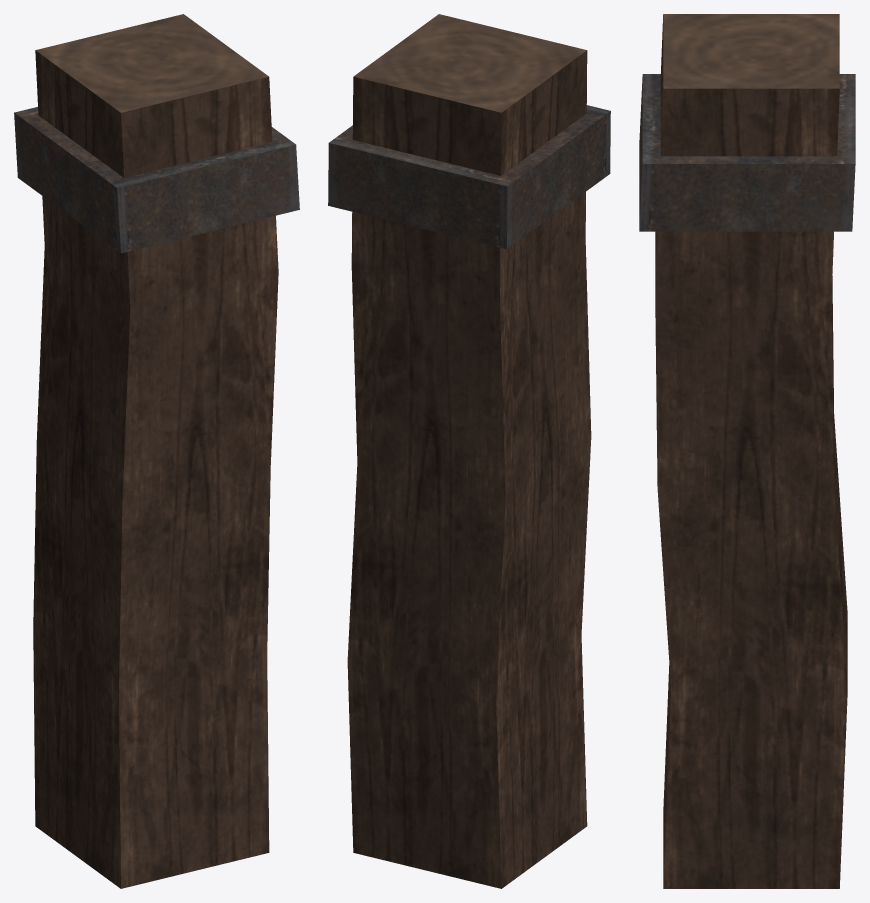
Rendered from Wood_Beam2.fbx.
The picture shows the model from 3 angles, left to right: view 1: azimuth 30°, elevation 25°; view 2: azimuth 150°, elevation 25°; view 3: azimuth 270°, elevation 25°; orthographic projection. The views are drawn at different scales.
Visible parts, largest first — view 1: Cube.012; view 2: Cube.012; view 3: Cube.012.
Part boxes in pixels (left/top/right/bottom): Cube.012: left=14, top=14, right=299, bottom=888; Cube.012: left=328, top=14, right=610, bottom=888; Cube.012: left=639, top=14, right=855, bottom=888.
Bounding box in the file's own units: 1.22 × 1.22 × 5.
